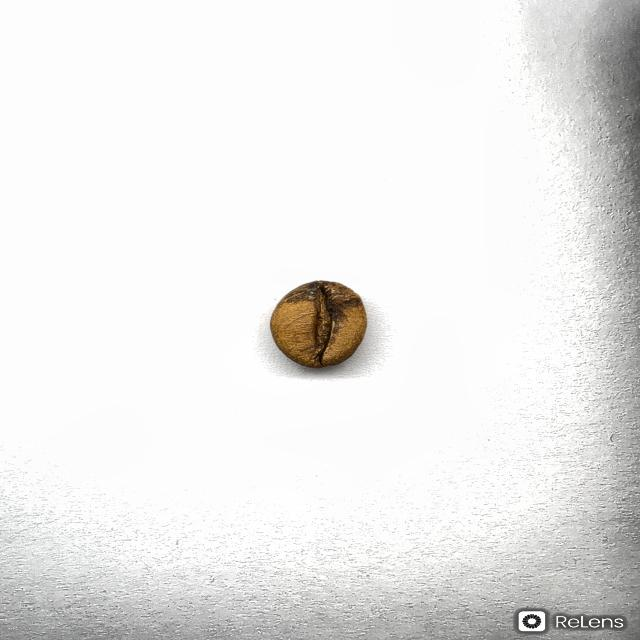Scorched: (268, 278, 369, 370)
